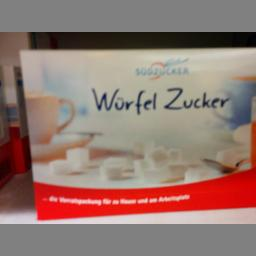sugar: (17, 44, 255, 220)
